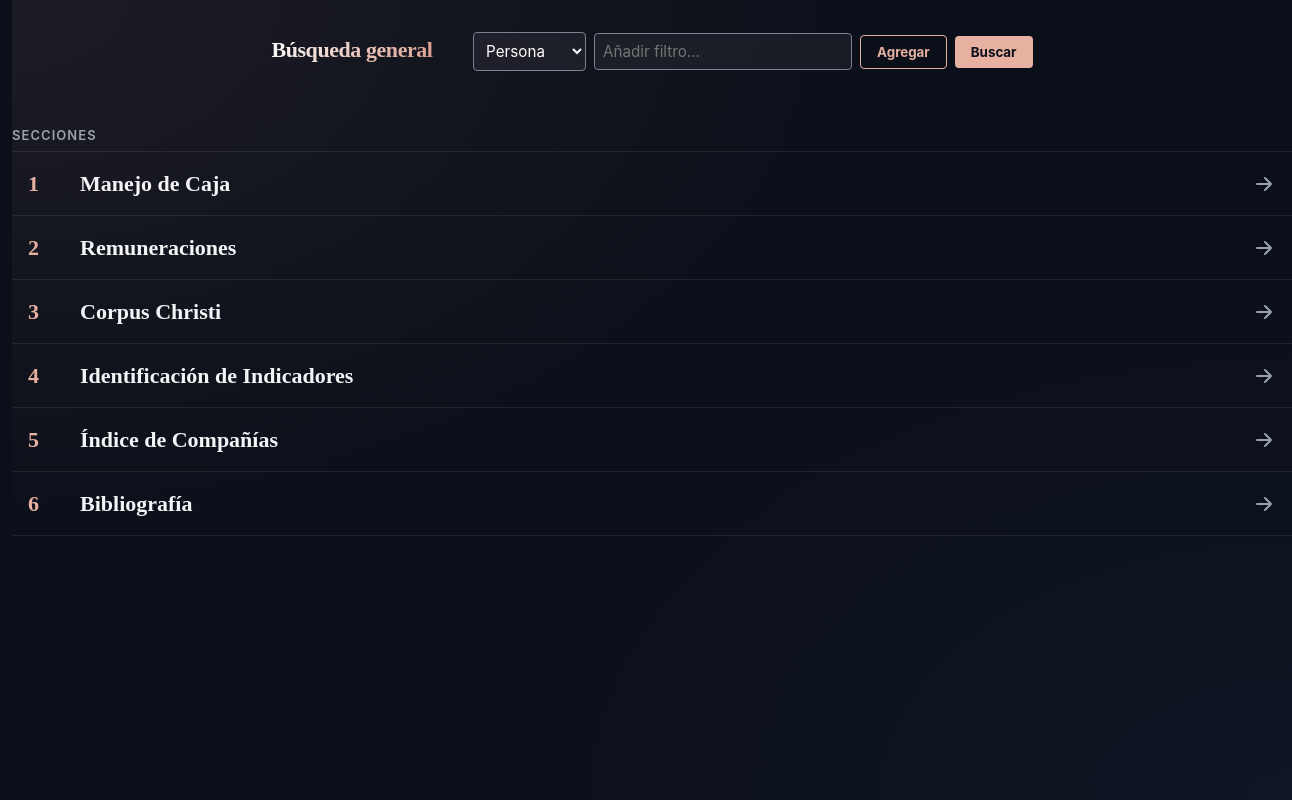
Test: Búsqueda general: texto de los resultados › lector: sigla de la compañía y sin números de registro ni «Num»
Expected: the heading "Búsqueda general" is shown, [272, 37, 432, 63]
Select "Texto libre" in the dropdown at (530, 52), box [473, 32, 586, 71]
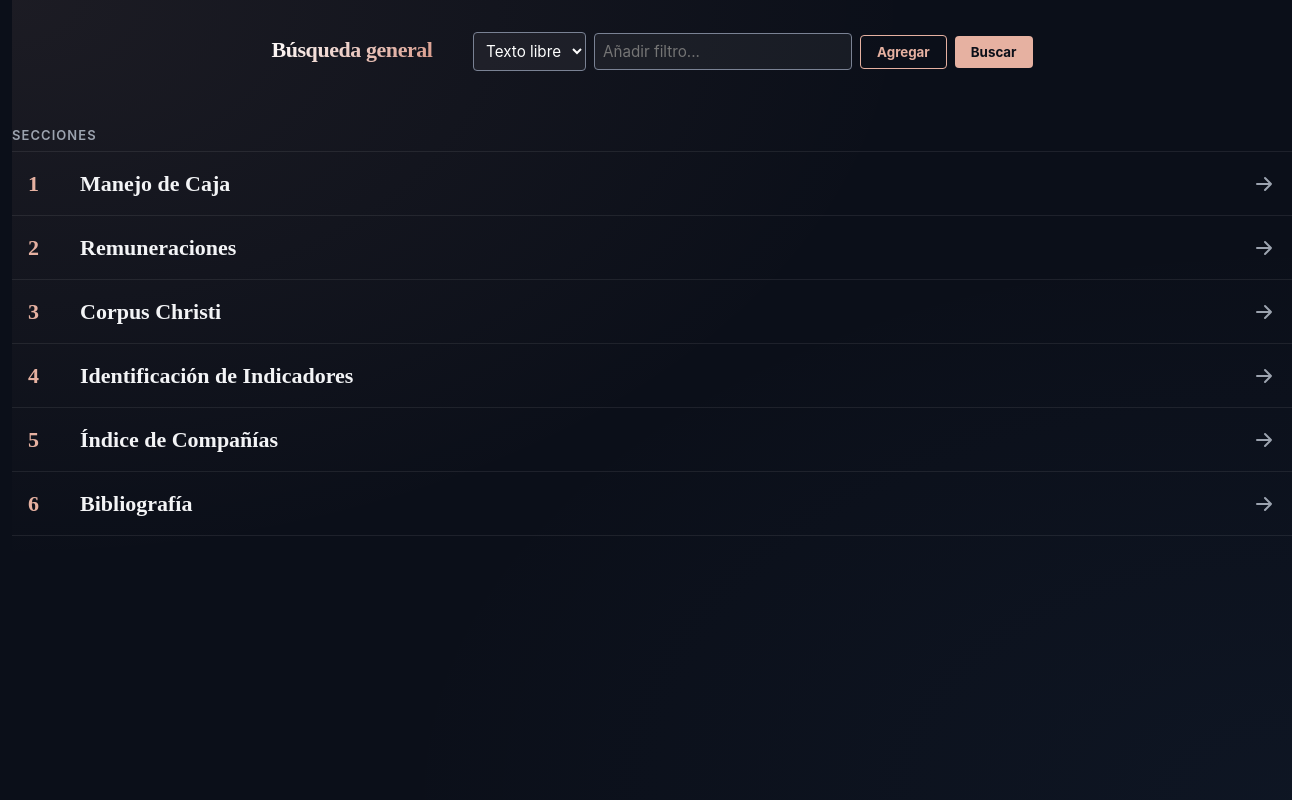
Type "Potosí" into the field with placeholder "Añadir filtro..." at (723, 52), box [594, 33, 852, 70]
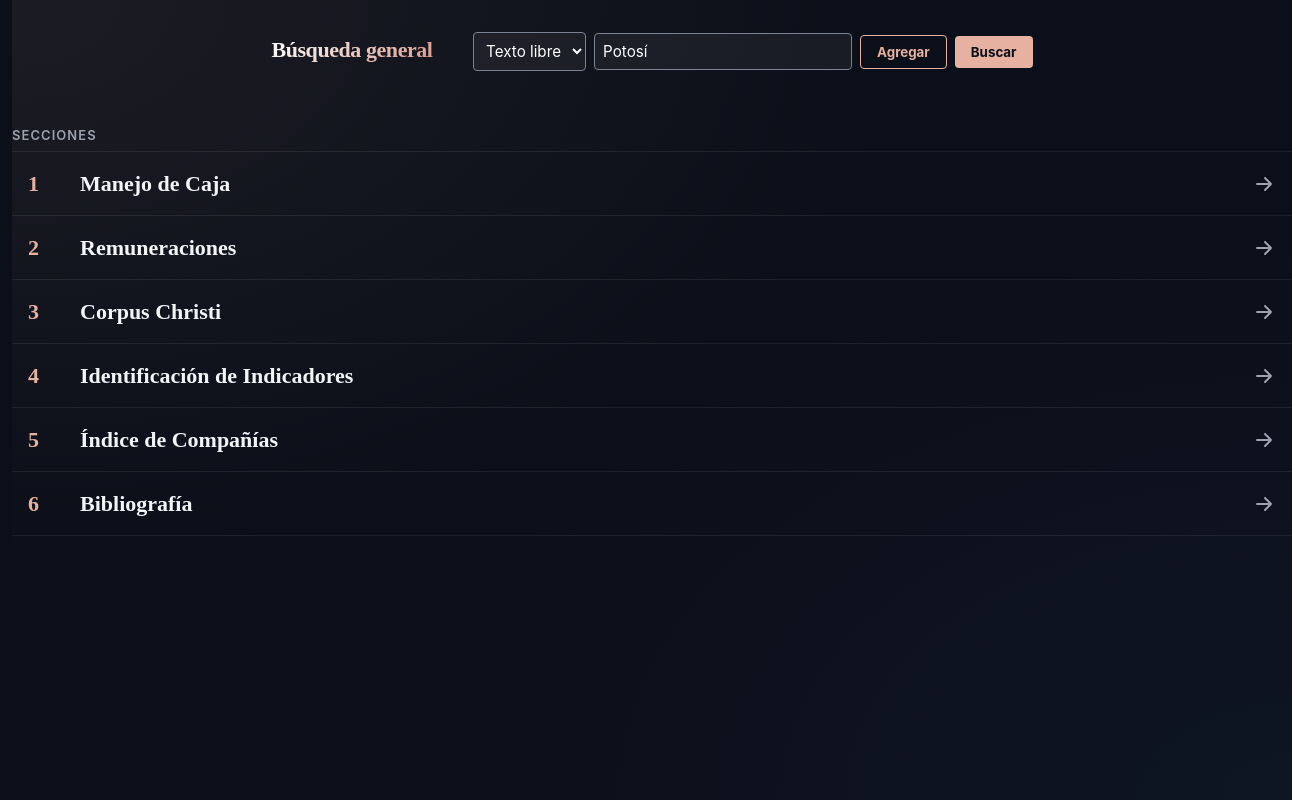
Click the button "Buscar" at (994, 52), box [955, 36, 1032, 68]
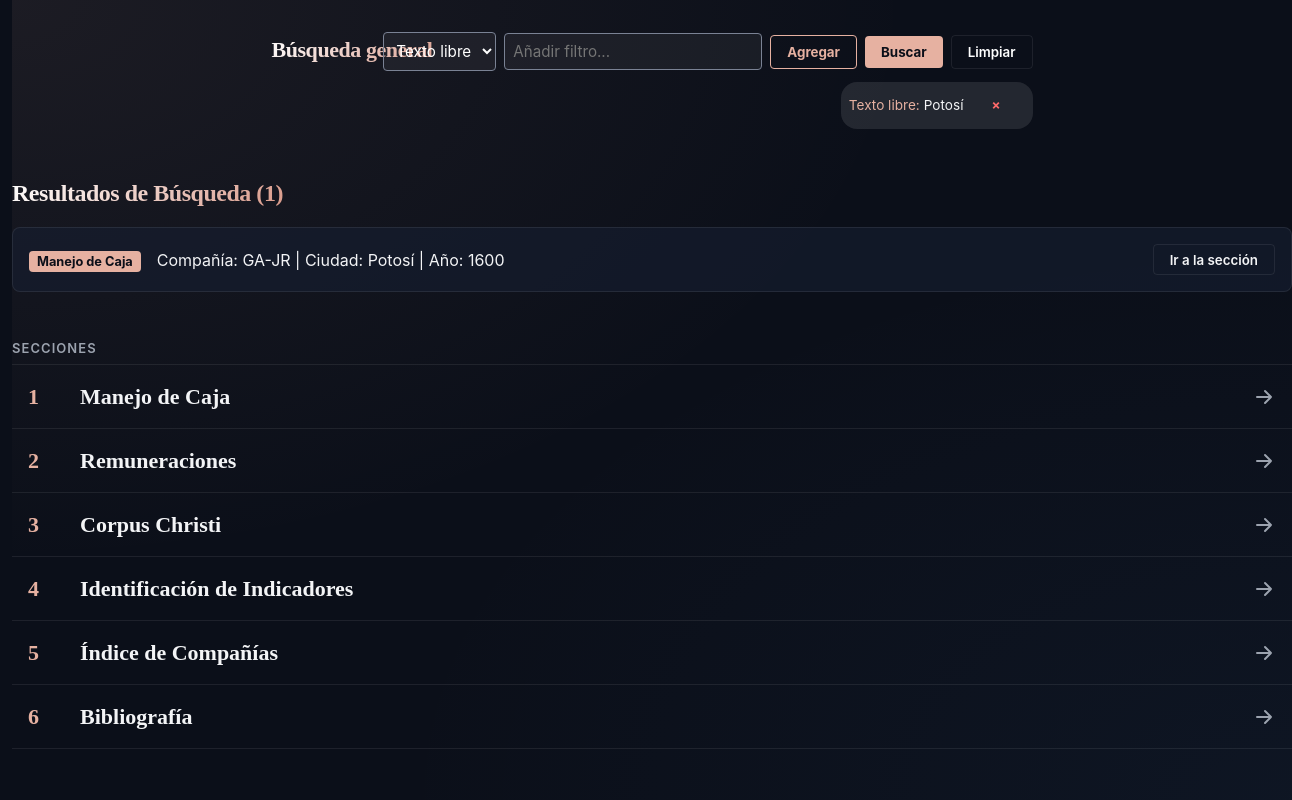
Expected: the heading "Resultados de Búsqueda (1)" is shown, [12, 180, 283, 208]
Expected: the text "Compañía: GA-JR | Ciudad: Potosí | Año: 1600" is shown, [157, 250, 504, 270]
